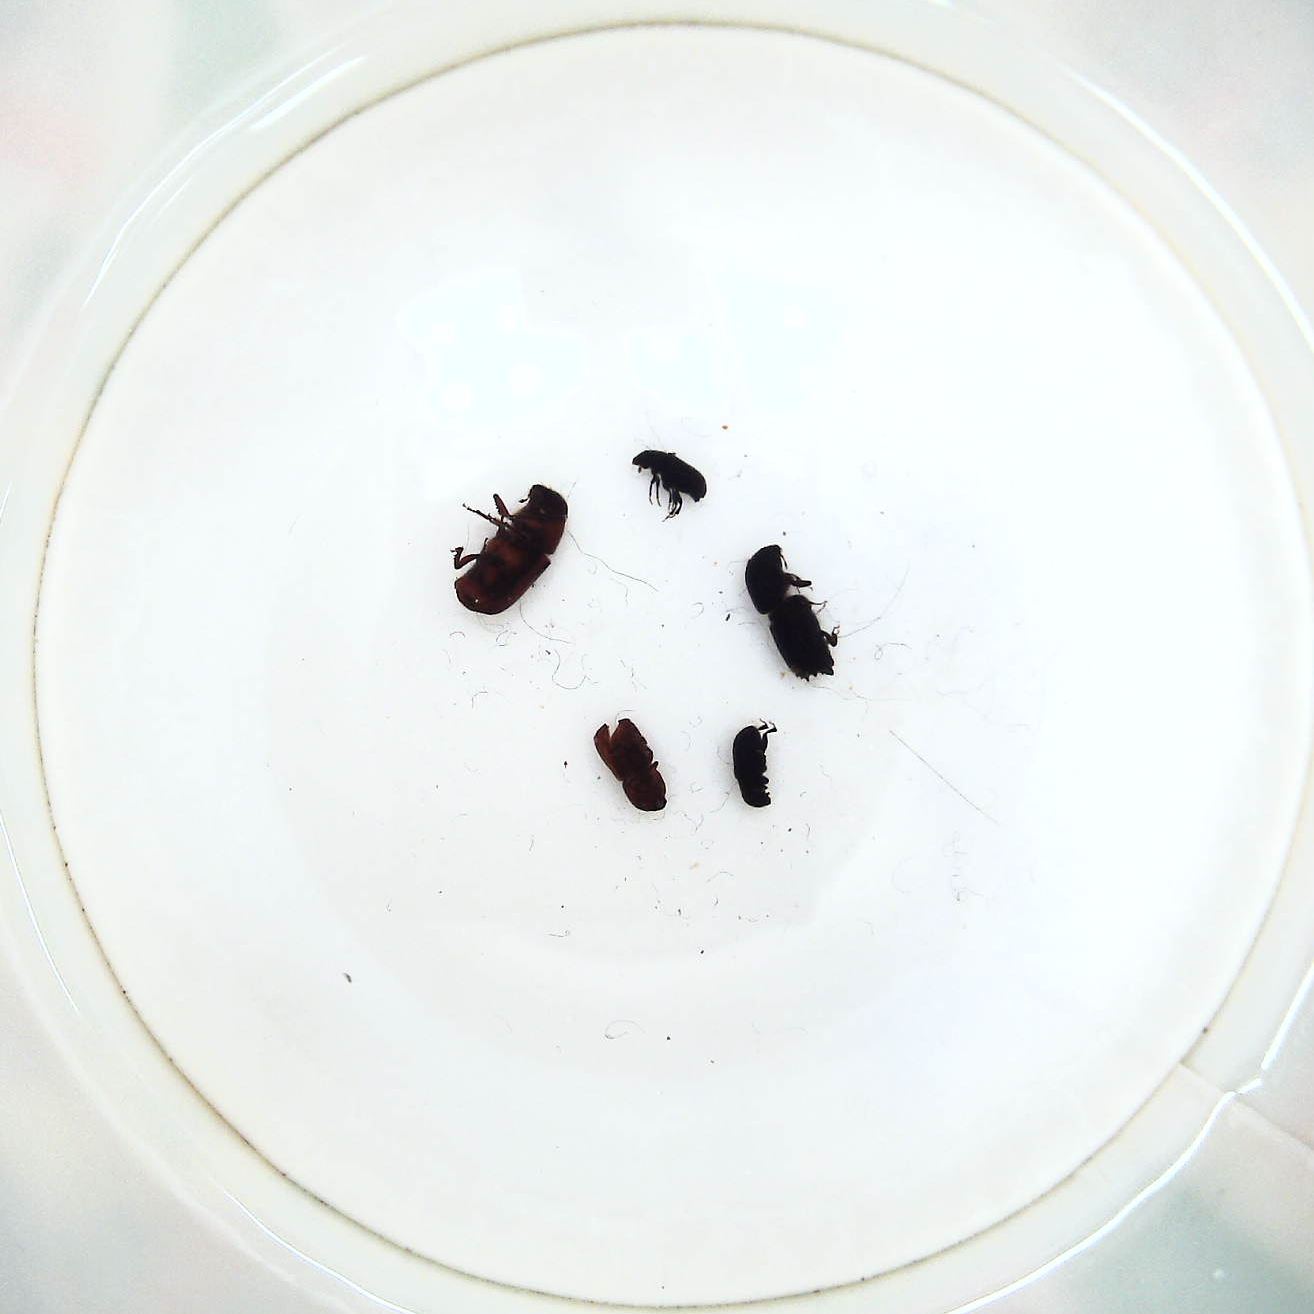Boerner: (735, 541, 845, 683)
Leconte: (443, 483, 574, 617)
armandi: (728, 720, 785, 815)
coleoptera: (626, 446, 711, 527)
linnaeus: (588, 712, 671, 817)
